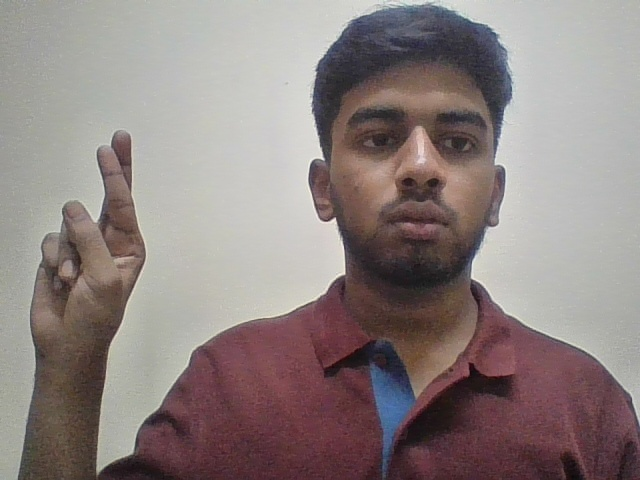R: (15, 109, 156, 381)
